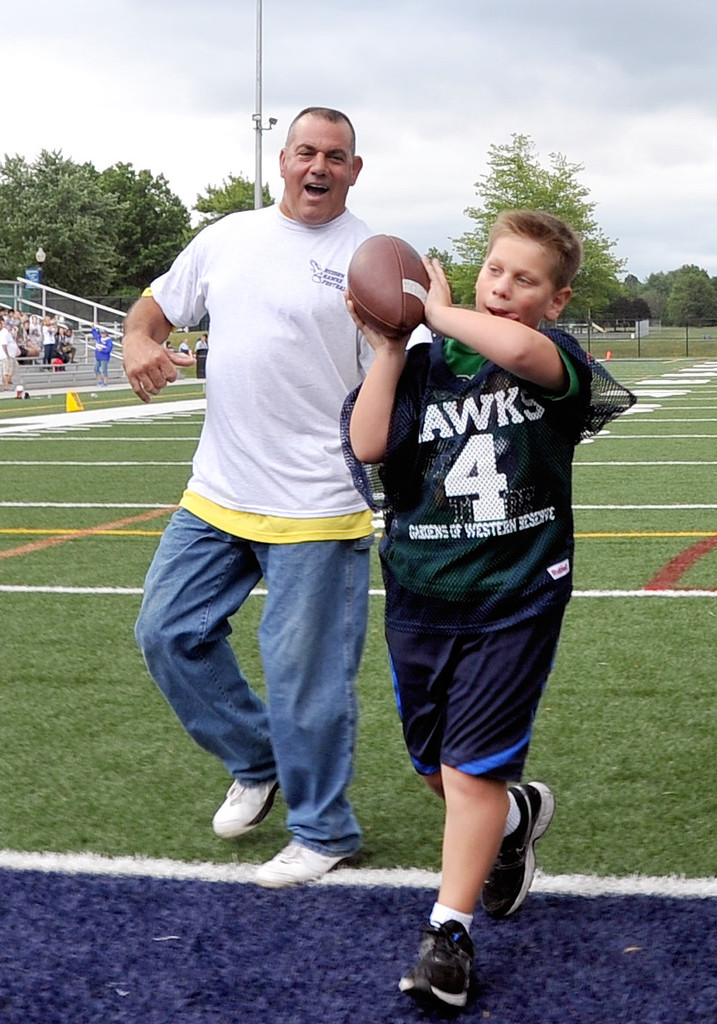Person: (0, 106, 635, 1007)
